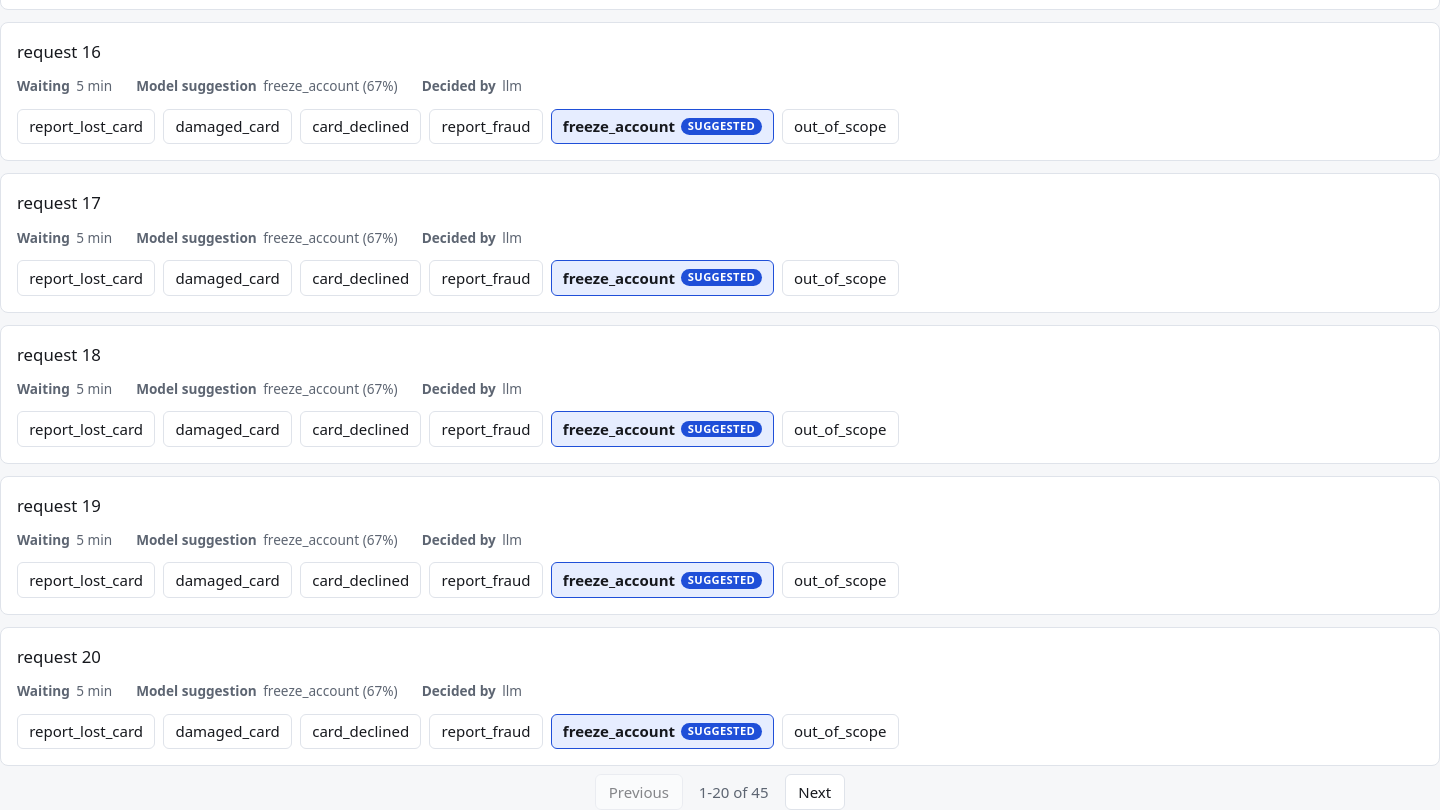
Test: paging › shows the first page and moves forward and back
(page scrolled)
Check: the text "1-20 of 45" is shown, box [699,781,768,804]
Check: the button "Previous" is disabled, box [595,774,683,809]
Click the button "Next". click: (815, 792)
box: [784,774,845,809]
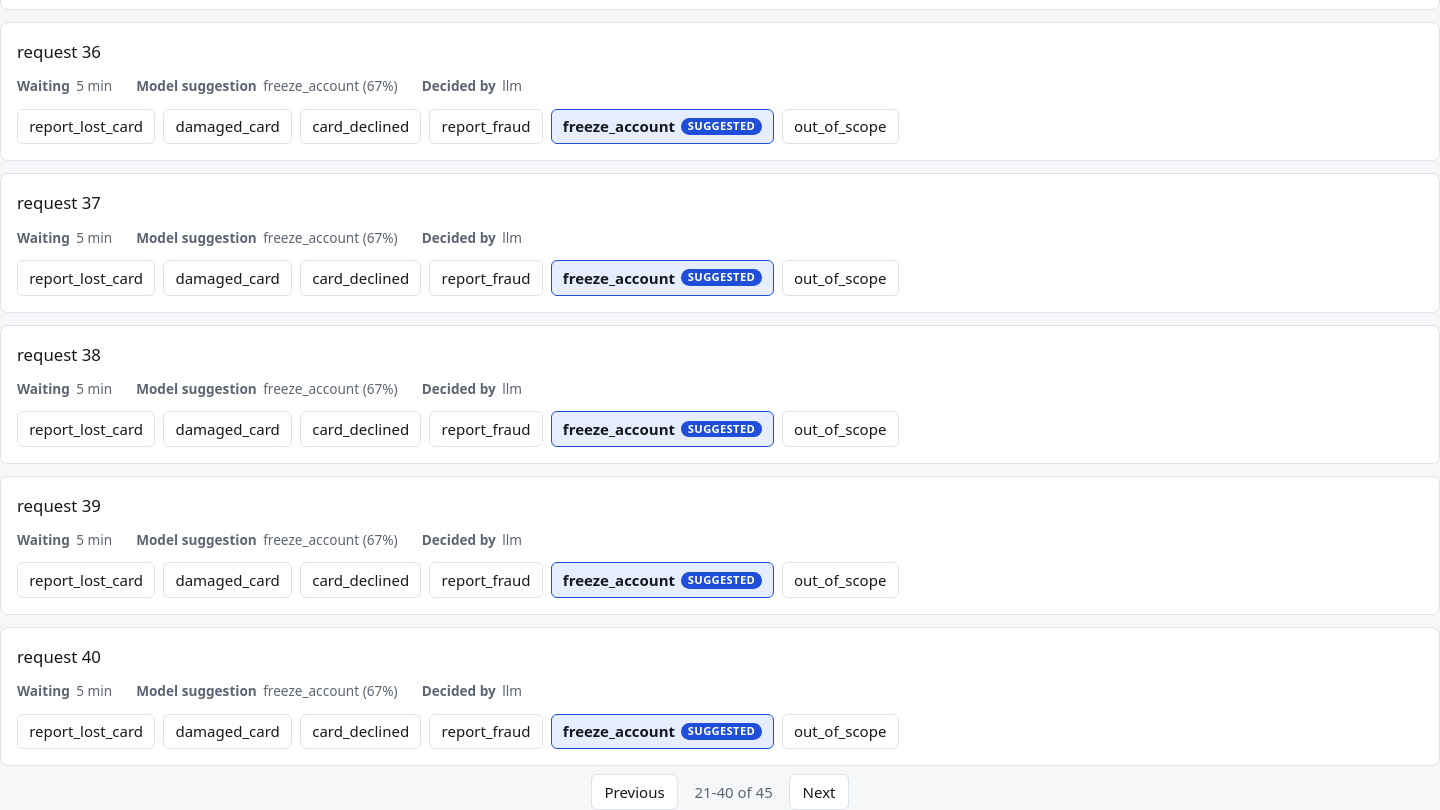
Check: the text "21-40 of 45" is shown, box [694,781,773,804]
Click the button "Next". click: (819, 792)
box: [789,774,849,809]
(page scrolled)
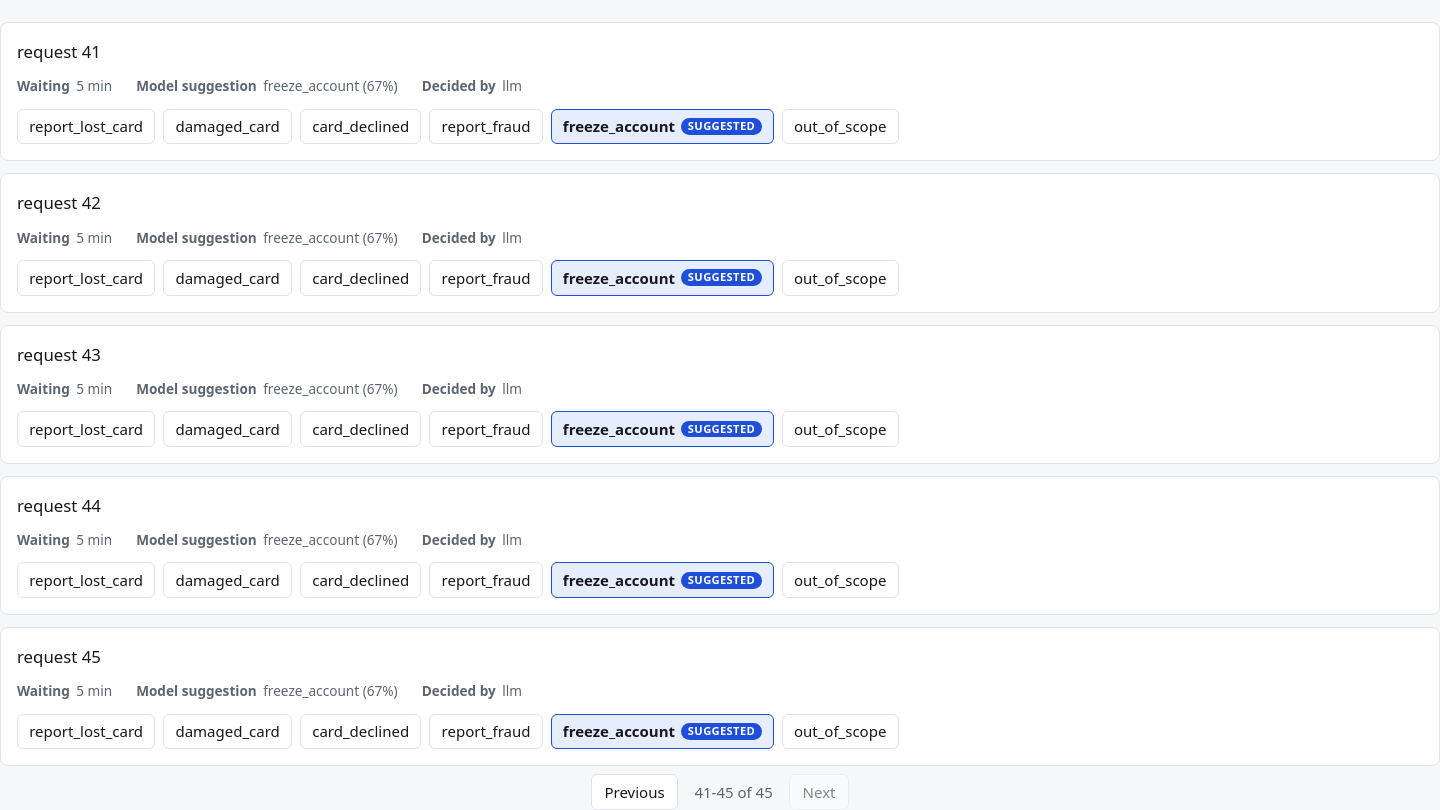
Check: the text "41-45 of 45" is shown, box [694,781,773,804]
Check: the number of list items is 5, box [0,22,1439,161]; [0,173,1439,313]; [0,325,1439,464]; [0,476,1439,615]; [0,627,1439,766]
Check: the button "Next" is disabled, box [789,774,849,809]
Click the button "Previous". click: (635, 792)
box: [591,774,678,809]
(page scrolled)
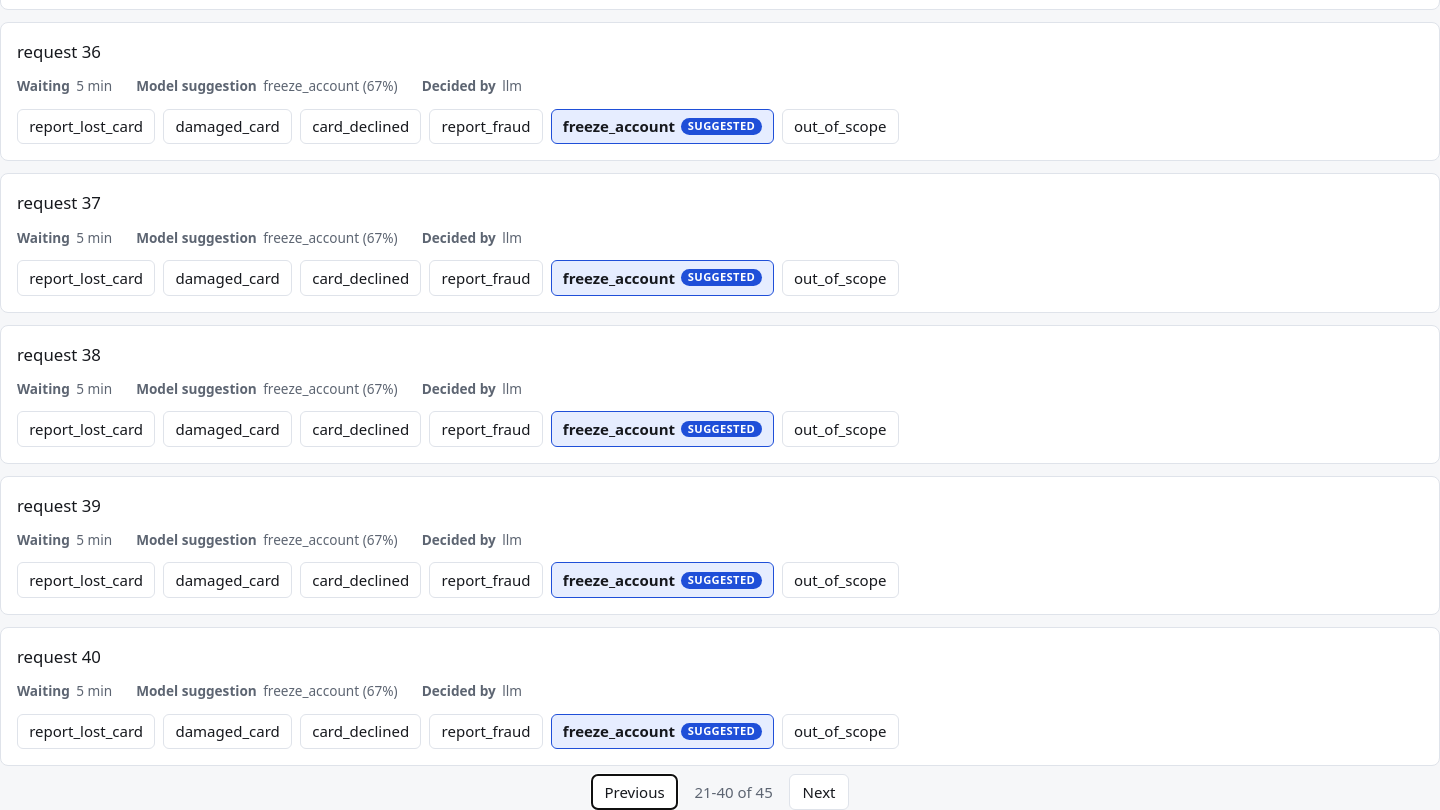
Check: the text "21-40 of 45" is shown, box [694,781,773,804]
